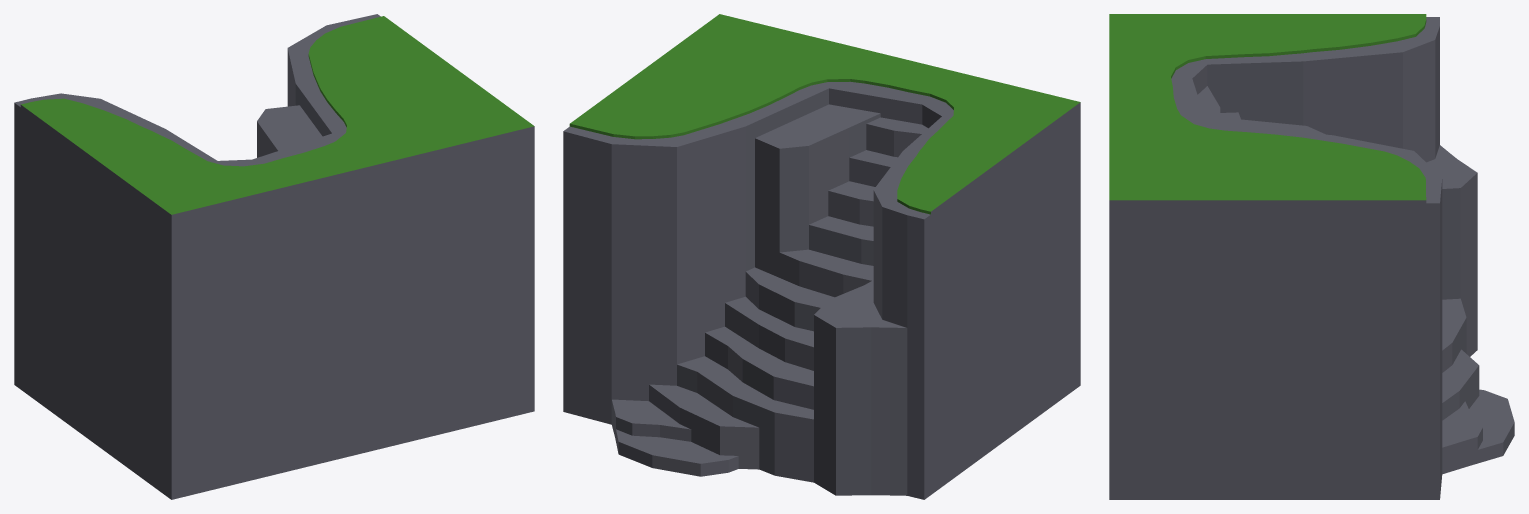
The model's file is Stair2v2.fbx.
3 renders of one model, left to right at view 1: azimuth 30°, elevation 25°; view 2: azimuth 150°, elevation 25°; view 3: azimuth 270°, elevation 25°, orthographic. The views are drawn at different scales.
Visible parts, largest first — view 1: Plane.027; view 2: Plane.027; view 3: Plane.027.
Part boxes in pixels (x1,y1,x2,y2): Plane.027: [14, 14, 534, 499]; Plane.027: [563, 14, 1080, 499]; Plane.027: [1109, 14, 1514, 499].
Bounding box in the file's own units: 100 × 75 × 91.93.
